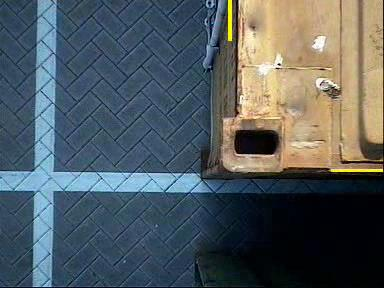groundmarker_2: (111, 76, 169, 112), (107, 222, 165, 258)
